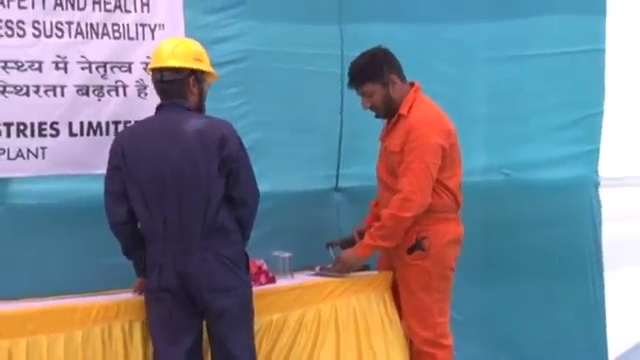helmet: (147, 34, 219, 82)
helmet_off: (346, 44, 411, 119)
helmet_on: (147, 34, 217, 114)
person: (100, 33, 261, 360), (331, 44, 466, 360)
